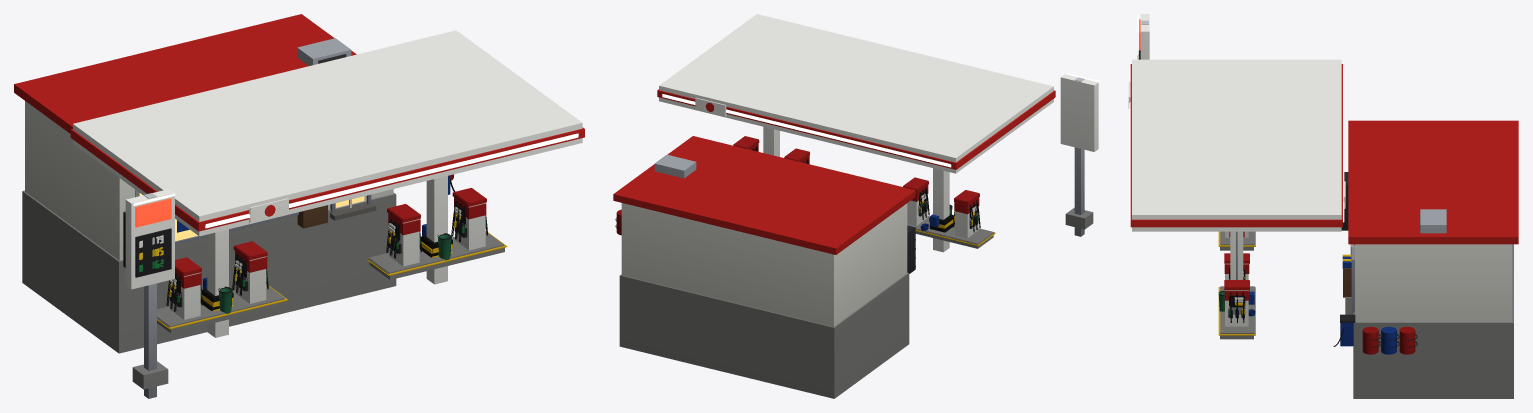
File: GasStation.fbx
3 views of the same model, side by side, from view 1: azimuth 30°, elevation 25°; view 2: azimuth 150°, elevation 25°; view 3: azimuth 270°, elevation 25° (orthographic). The views are drawn at different scales.
Parts seen in each view (by area): view 1: GasStation_LOD0; view 2: GasStation_LOD0; view 3: GasStation_LOD0.
Boxes of the visible parts, x1,y1,x2,y2 form: GasStation_LOD0: (14,14,584,398); GasStation_LOD0: (613,14,1099,398); GasStation_LOD0: (1128,14,1518,398).
Size of what is drawn, in the model's own units: 16.81 by 9.53 by 14.9.
1 material, 1 textured.
